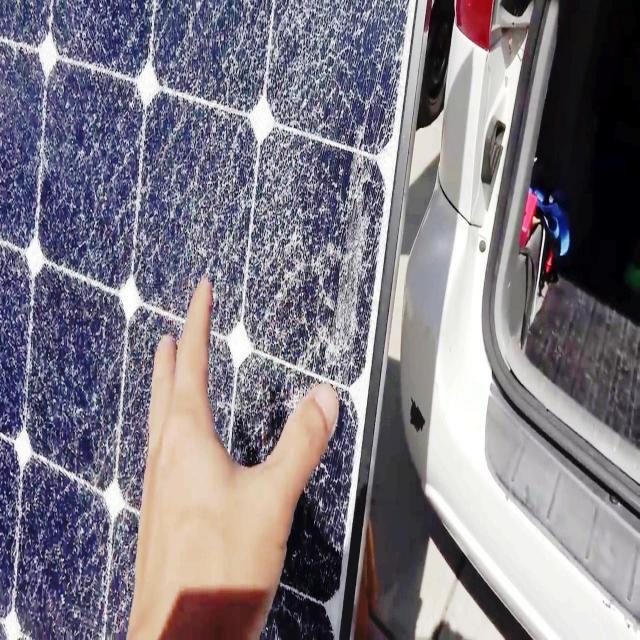faulty: (2, 4, 408, 640)
